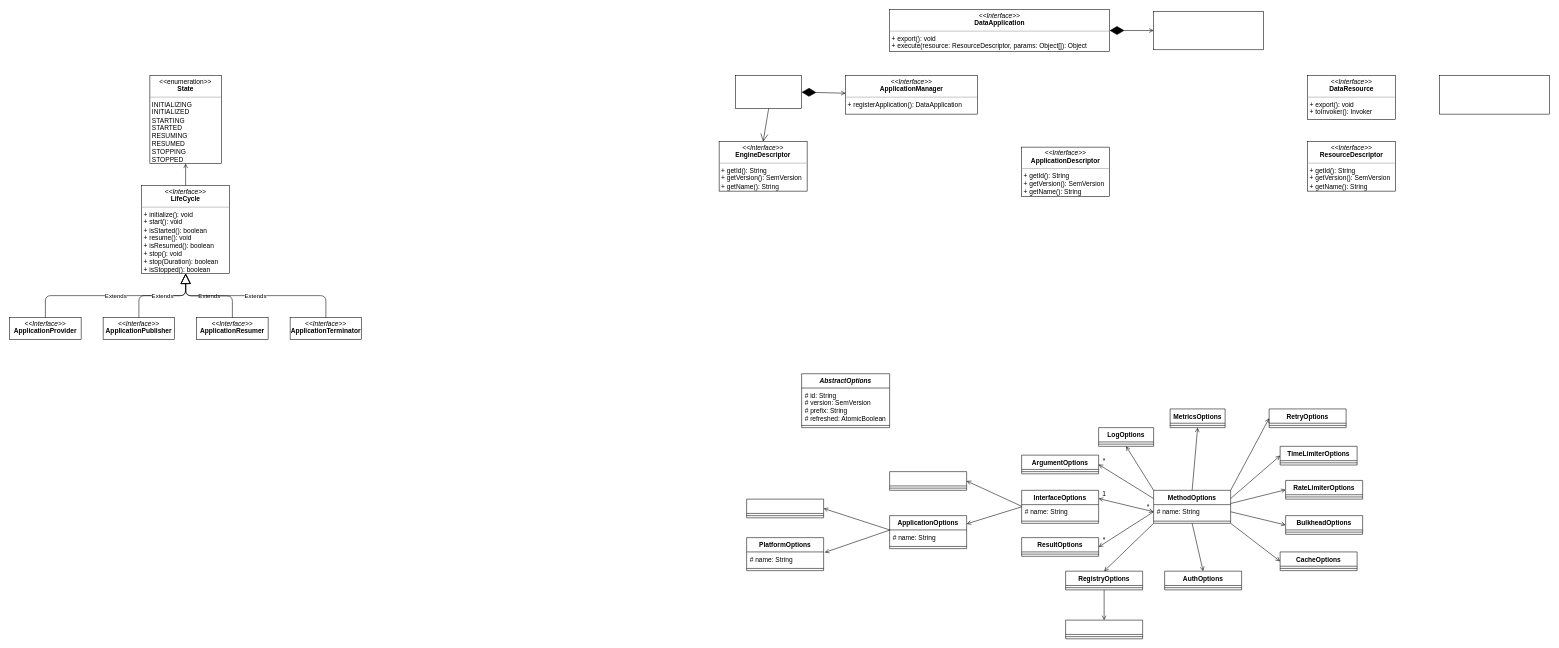
This 1559x648 diagram has some shape labels left out. The centre of each missing label's shape, as x and y in pixels:
"<<Interface>> DataEngine + export(): void" goes at point (768, 92).
"<<Interface>> Invoker + invoke(params: Object[]): Object" goes at point (1494, 94).
"<<Interface>> ResourceManager + registerResource(): DataResource" goes at point (1208, 30).
"ConfigOptions" goes at point (785, 508).
"ModuleOptions" goes at point (928, 480).
"ProtocolOptions" goes at point (1104, 629).
